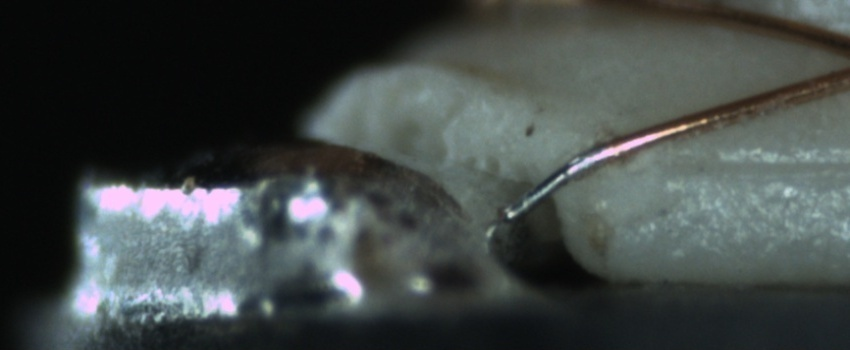DL: (638, 137, 849, 195)
TS: (508, 144, 616, 219)
